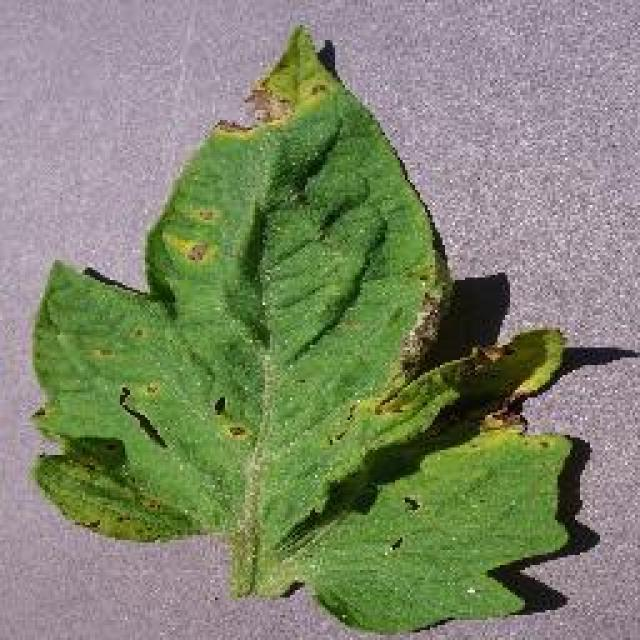Tom_Septoria_leaf_spot: (378, 279, 542, 440), (204, 75, 300, 154), (161, 195, 240, 273)
